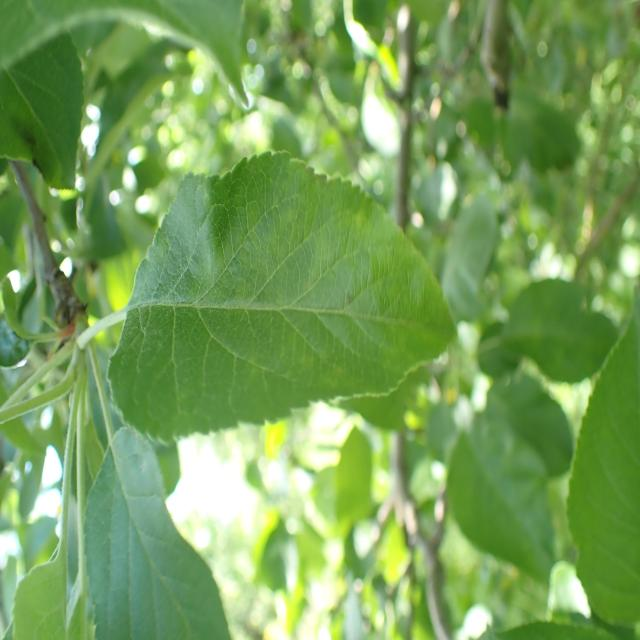scab: (149, 213, 423, 400)
